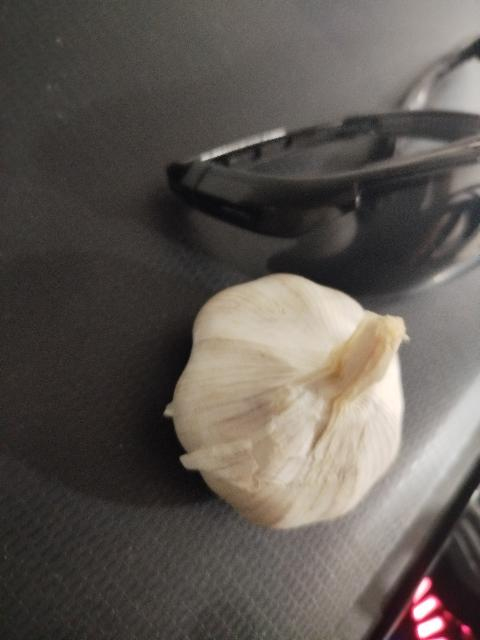garlic: (163, 272, 409, 530)
